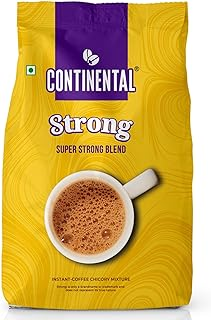Coffee: (2, 1, 192, 309)
